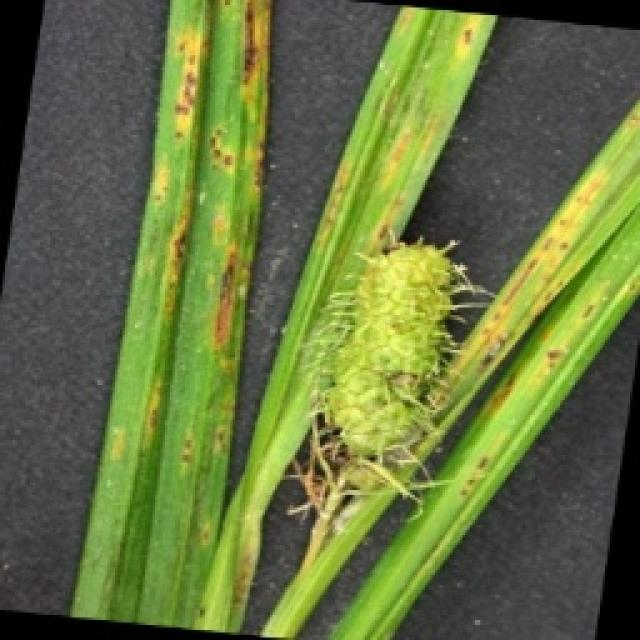Elderberry_rust: (175, 0, 533, 529)
